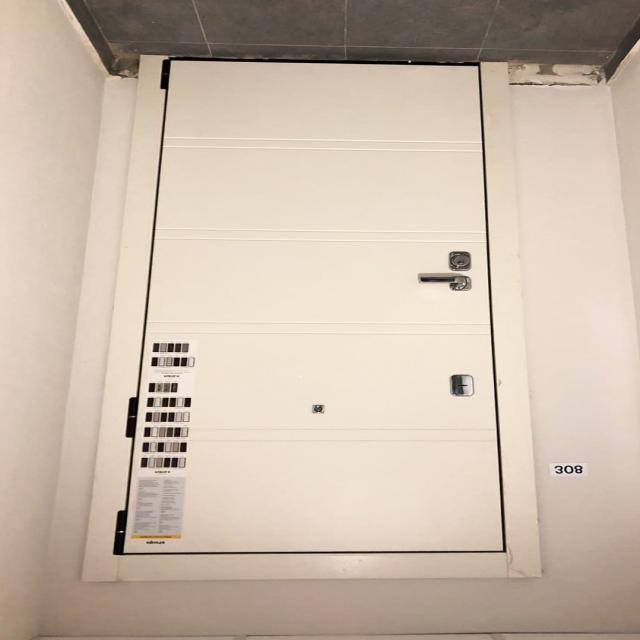close: (118, 59, 510, 556)
